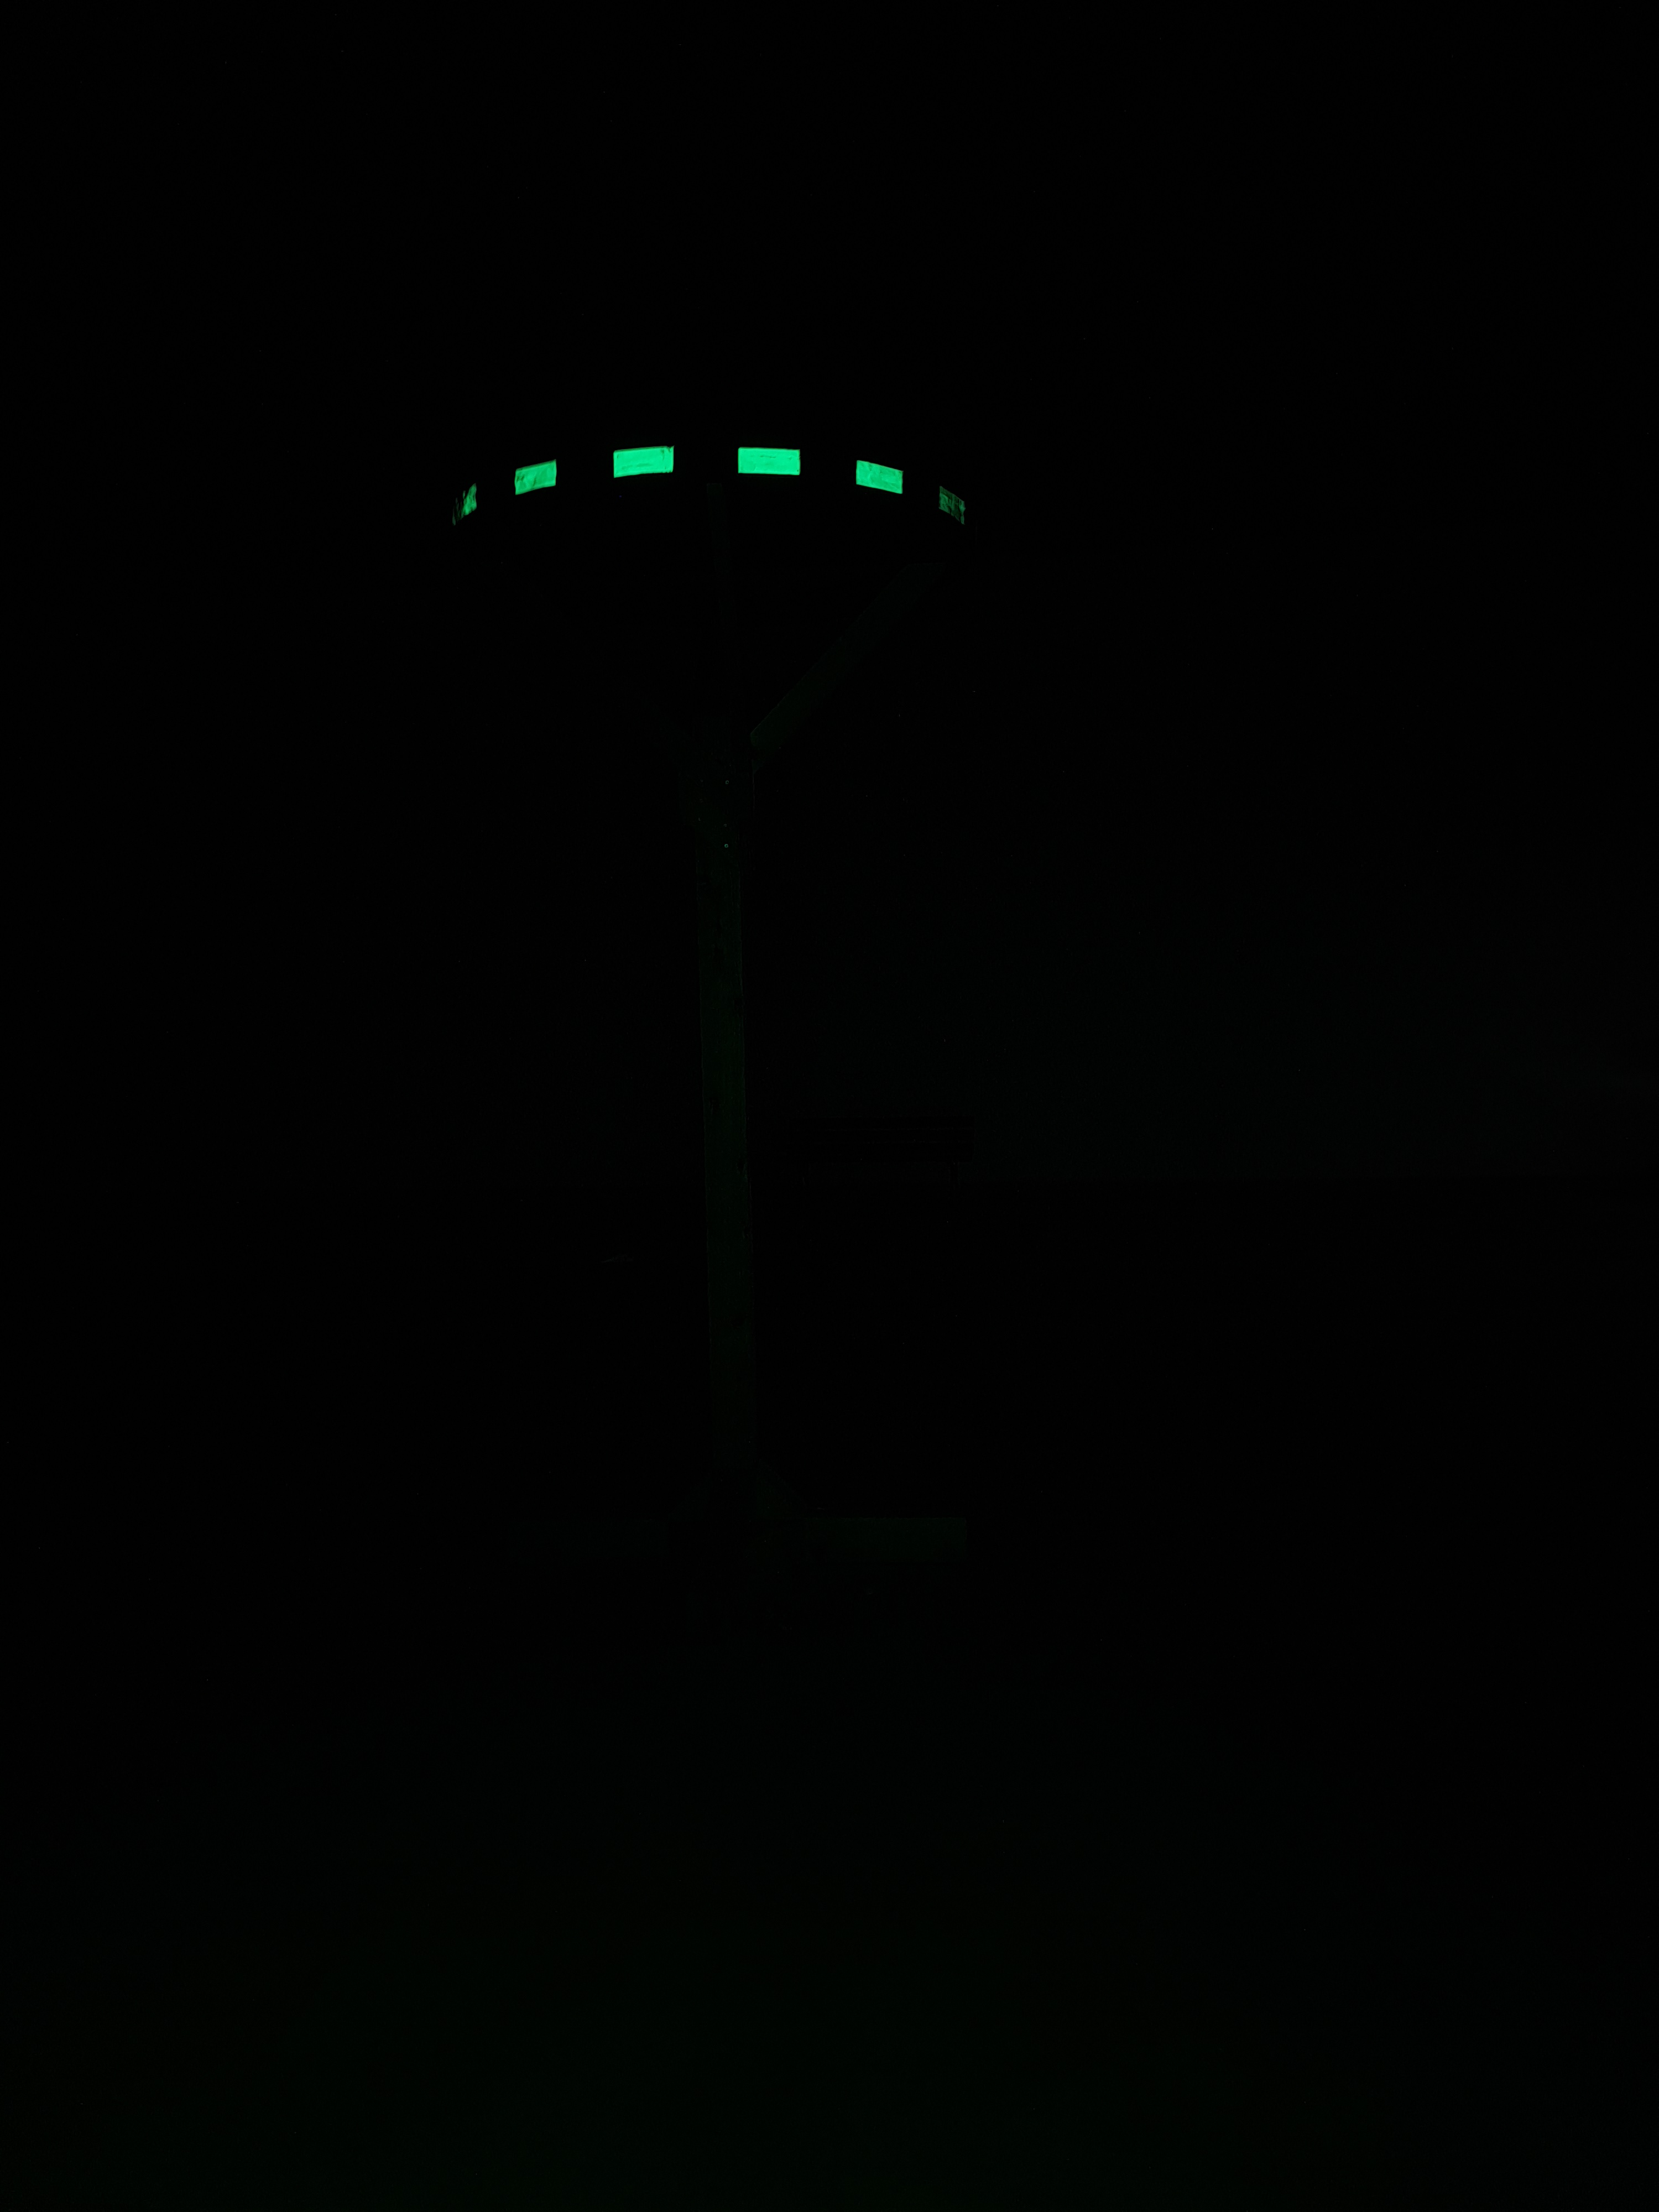hoop: (444, 435, 969, 542)
